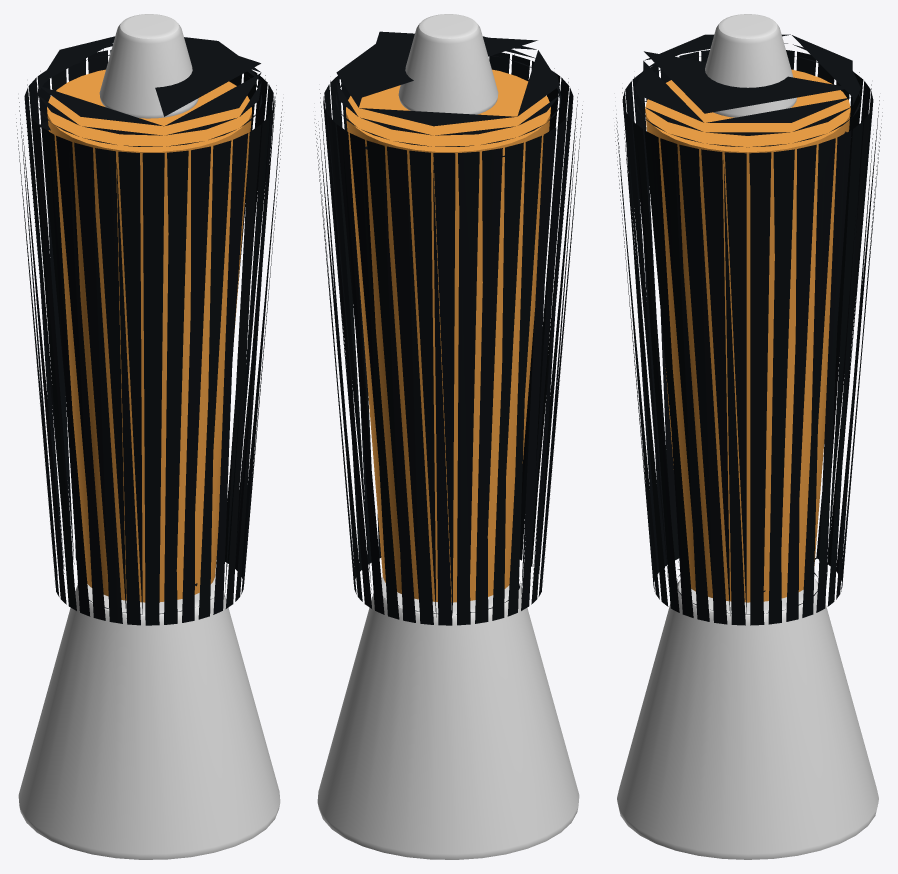
Rendered from industrial.workshop.trinket_lava.glb.
The picture shows the model from 3 angles, left to right: view 1: azimuth 30°, elevation 25°; view 2: azimuth 150°, elevation 25°; view 3: azimuth 270°, elevation 25°; orthographic projection.
Visible parts, largest first — view 1: main__glass_dark, main__galv_eee, main__light_fa4; view 2: main__glass_dark, main__galv_eee, main__light_fa4; view 3: main__glass_dark, main__galv_eee, main__light_fa4.
Boxes of the visible parts, x1,y1,x2,y2 form: main__glass_dark: [16, 36, 282, 625]; main__galv_eee: [18, 14, 280, 859]; main__light_fa4: [47, 69, 251, 602]; main__glass_dark: [314, 31, 582, 625]; main__galv_eee: [317, 14, 579, 859]; main__light_fa4: [346, 69, 550, 602]; main__glass_dark: [615, 34, 882, 625]; main__galv_eee: [617, 14, 878, 859]; main__light_fa4: [645, 69, 850, 602].
Size of the model in its own units: 0.1318 by 0.42 by 0.1318.
